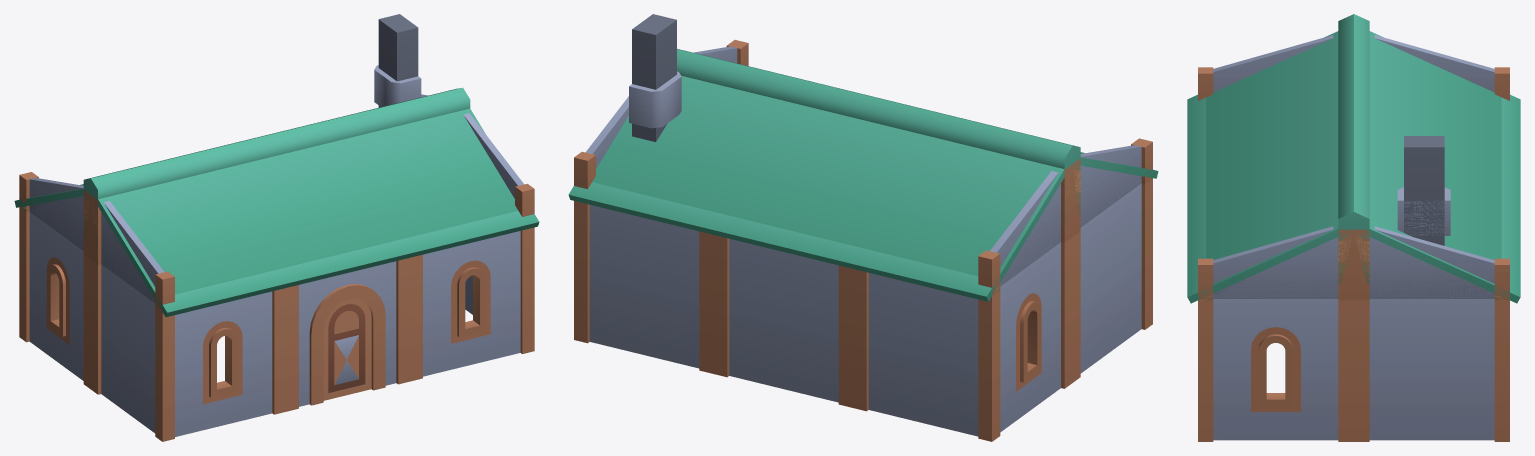
The model's file is maison-atlante-1.glb.
3 views of the same model, side by side, from view 1: azimuth 30°, elevation 25°; view 2: azimuth 150°, elevation 25°; view 3: azimuth 270°, elevation 25° (orthographic). The views are drawn at different scales.
Parts seen in each view (by area): view 1: wall-window-round; view 2: wall-window-round; view 3: wall-window-round.
Part boxes in pixels (x1=…): wall-window-round: x1=14, y1=14, x2=539, y2=441; wall-window-round: x1=568, y1=14, x2=1158, y2=441; wall-window-round: x1=1187, y1=14, x2=1520, y2=441.
Bounding box in the file's own units: 9 × 6 × 6.4.
Materials: 1 (1 with a texture image).
